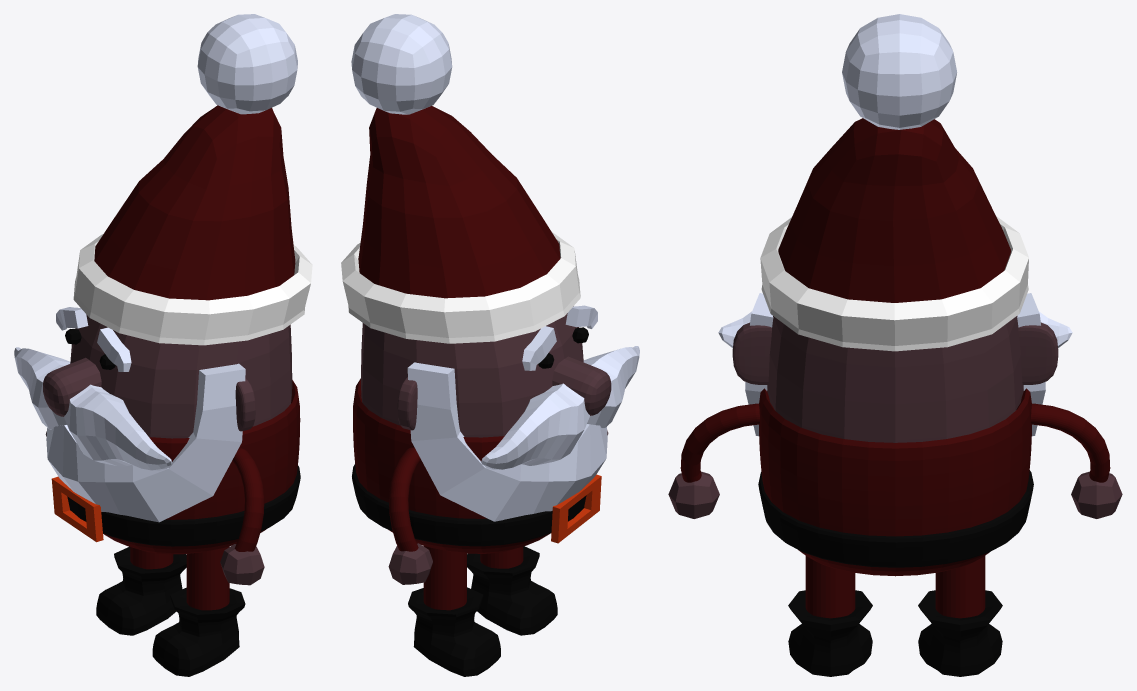
File: santa.obj
The picture shows the model from 3 angles, left to right: view 1: azimuth 30°, elevation 25°; view 2: azimuth 150°, elevation 25°; view 3: azimuth 270°, elevation 25°; orthographic projection. The views are drawn at different scales.
Visible parts, largest first — view 1: Body.002, Body, Beard, Body.001, Boots, Cube.001, Stache, Pants, Belt, Legs, Arms, nose (+4 smaller); view 2: Body.002, Body, Beard, Body.001, Boots, Cube.001, Stache, Pants, Belt, Legs, Arms, nose (+4 smaller); view 3: Body.002, Pants, Body, Body.001, Cube.001, Boots, Belt, Legs, Arms, Ears, Hands, Beard (+1 smaller).
Part boxes in pixels (x1,y1,x2,y2): Body.002: [94, 105, 295, 300]; Body: [70, 314, 292, 438]; Beard: [46, 363, 245, 522]; Body.001: [73, 234, 312, 345]; Boots: [96, 546, 245, 676]; Cube.001: [197, 14, 297, 114]; Stache: [14, 347, 172, 470]; Pants: [103, 380, 300, 554]; Belt: [67, 465, 300, 546]; Legs: [130, 546, 229, 610]; Arms: [232, 448, 264, 551]; nose: [43, 357, 101, 416]; Body.002: [358, 106, 560, 298]; Body: [361, 306, 583, 437]; Beard: [407, 362, 607, 521]; Body.001: [341, 232, 580, 343]; Boots: [408, 546, 557, 676]; Cube.001: [351, 14, 452, 114]; Stache: [481, 346, 639, 469]; Pants: [353, 378, 550, 553]; Belt: [352, 464, 586, 546]; Legs: [423, 546, 523, 610]; Arms: [389, 447, 420, 551]; nose: [552, 356, 611, 415]; Body.002: [778, 118, 1010, 302]; Pants: [759, 388, 1031, 576]; Body: [767, 316, 1023, 442]; Body.001: [760, 216, 1028, 351]; Cube.001: [842, 14, 957, 129]; Boots: [788, 590, 1002, 676]; Belt: [758, 470, 1033, 567]; Legs: [805, 556, 985, 618]; Arms: [680, 403, 1110, 482]; Ears: [732, 322, 1058, 384]; Hands: [668, 471, 1122, 518]; Beard: [745, 293, 1045, 436].
Size of the model in its own units: 3.18 by 7.36 by 4.37.
